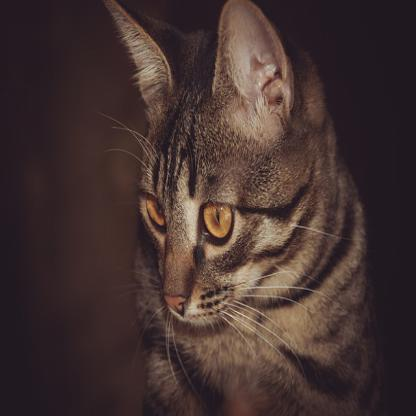cat: (104, 1, 386, 415)
